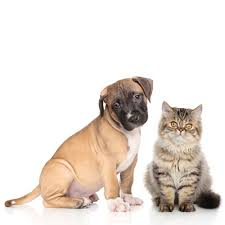cat: (157, 98, 207, 147)
dog: (96, 74, 156, 132)
